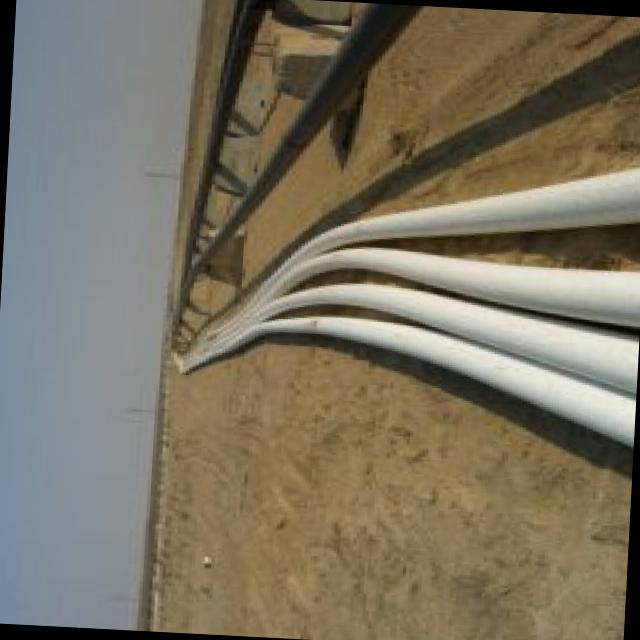gas: (181, 315, 636, 443), (264, 165, 640, 287), (253, 285, 640, 391), (265, 249, 640, 324)
